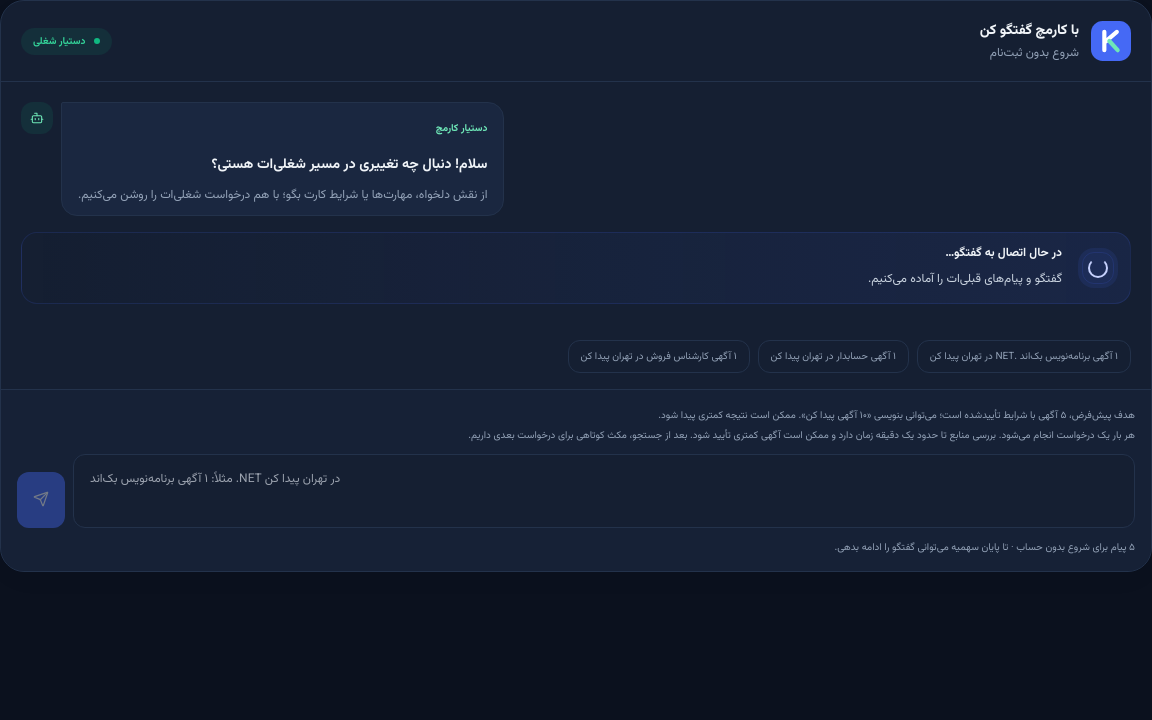
it: Guest conversation › handles a server-side quota rejection even when the local counter is stale
In the text box named "پیام شما": (604, 491) [73,454,1135,528], type "Backend"
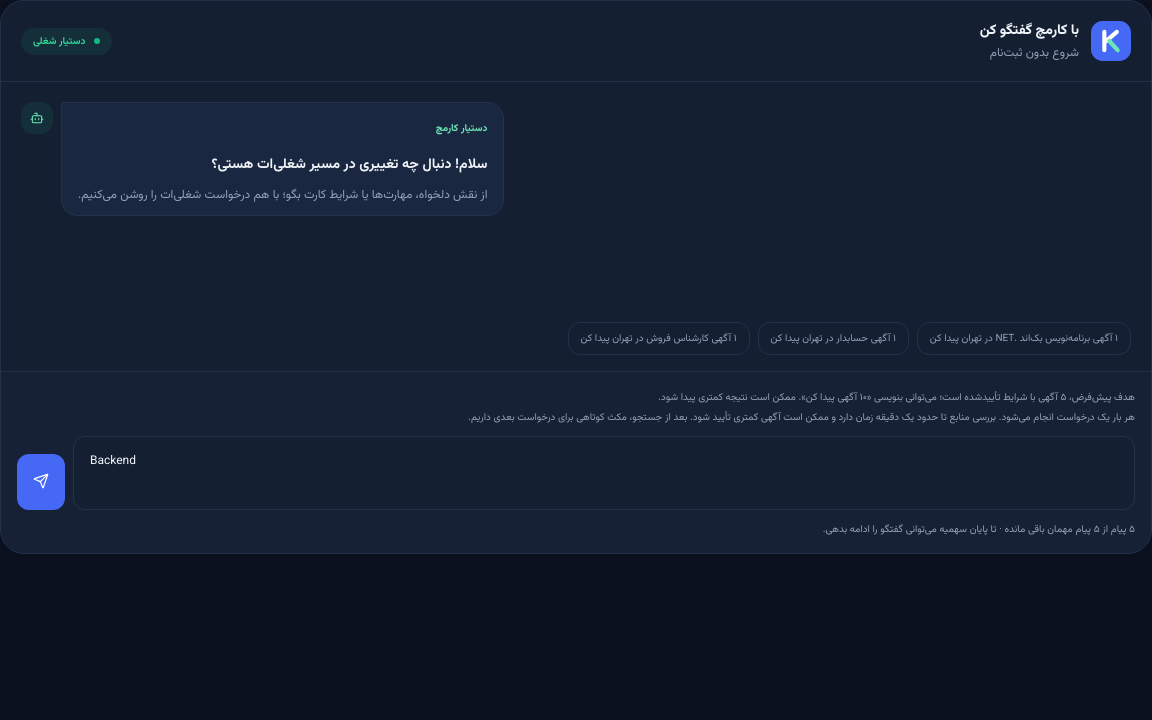
Check: the button named "ارسال پیام" is enabled
Click the button named "ارسال پیام": (41, 482) [17,454,65,510]
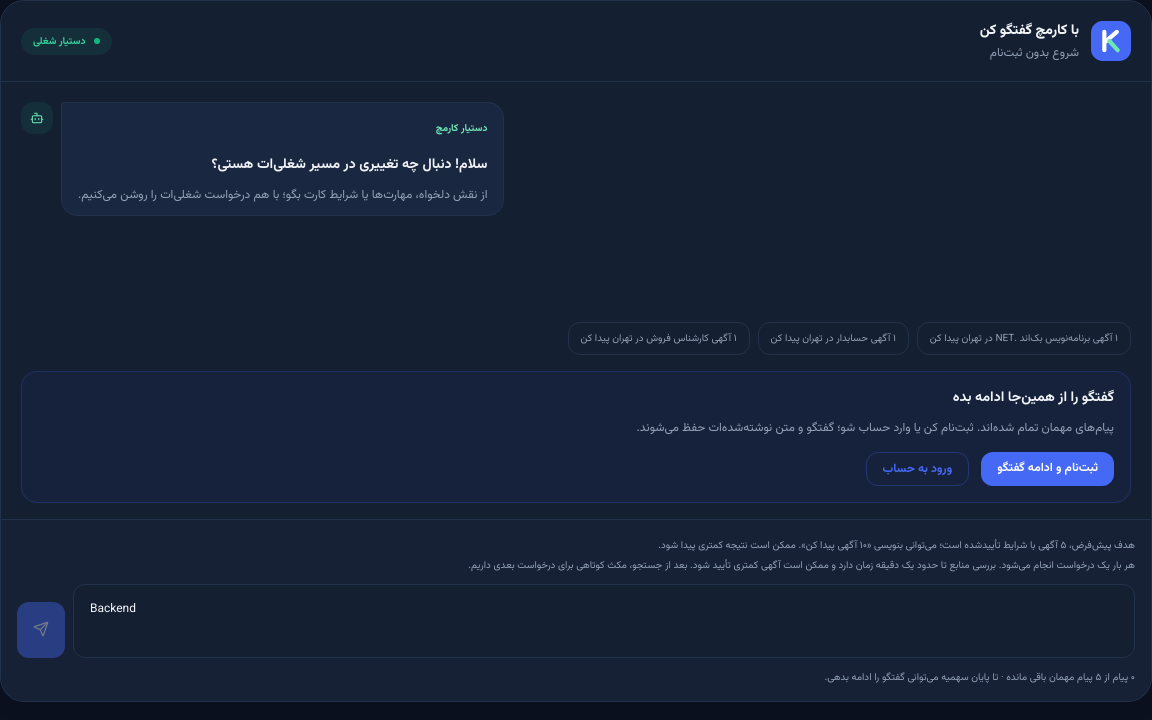
Check: the heading "گفتگو را از همین‌جا ادامه بده" is shown, box [953,387,1114,409]
